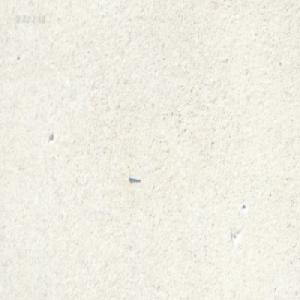Nail: (127, 174, 140, 182)
